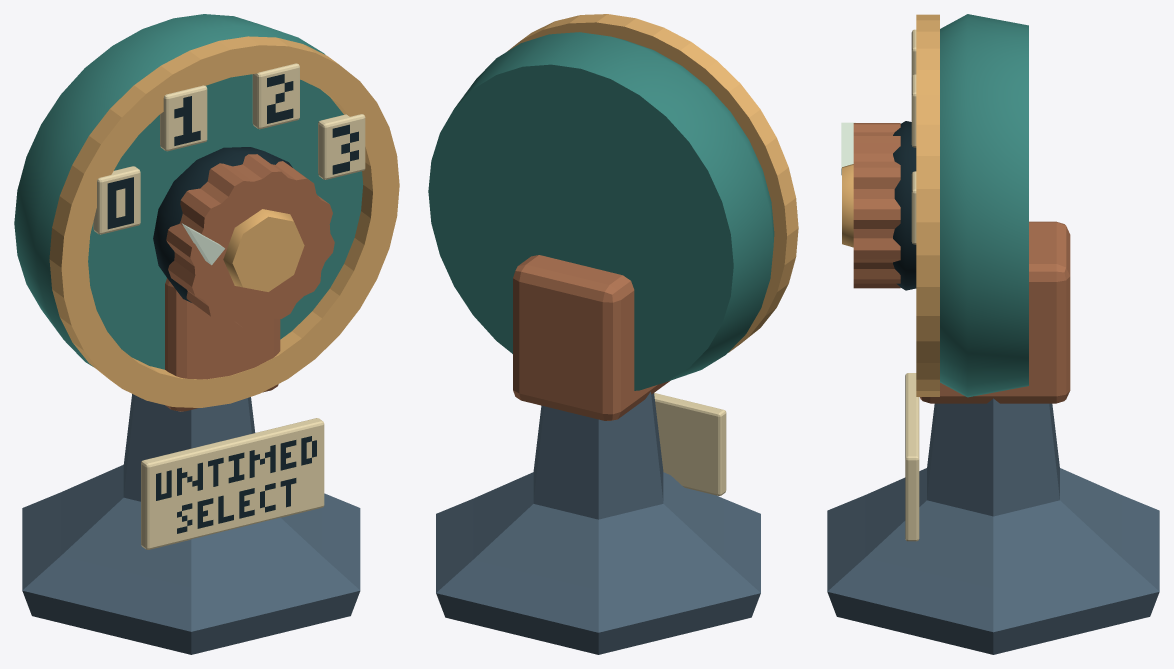
3 views of the same model, side by side, from view 1: azimuth 30°, elevation 25°; view 2: azimuth 150°, elevation 25°; view 3: azimuth 270°, elevation 25° (orthographic). The views are drawn at different scales.
Parts seen in each view (by area): view 1: PR099 enamel and hardware; view 2: PR099 enamel and hardware; view 3: PR099 enamel and hardware.
Part boxes in pixels (<box>): PR099 enamel and hardware: <box>14,14,399,654</box>; PR099 enamel and hardware: <box>428,14,798,654</box>; PR099 enamel and hardware: <box>827,14,1159,654</box>.
Size of the model in its own units: 0.6928 by 1.09 by 0.6.
